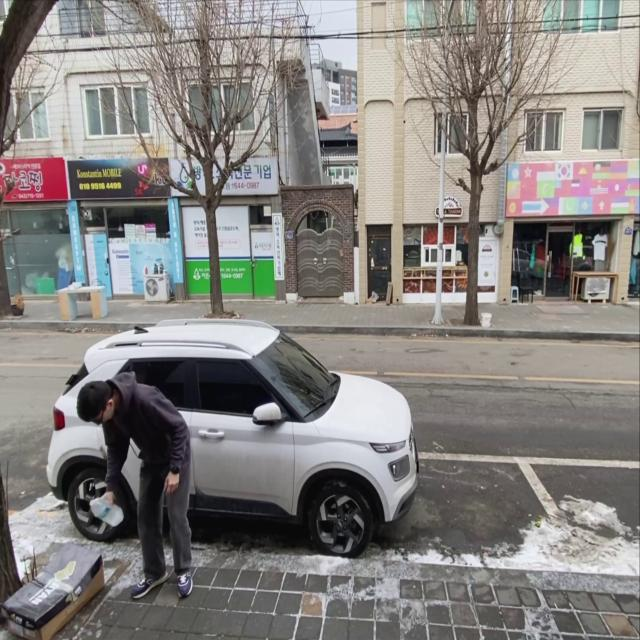bare_hand: (157, 468, 181, 497), (104, 492, 118, 504)
